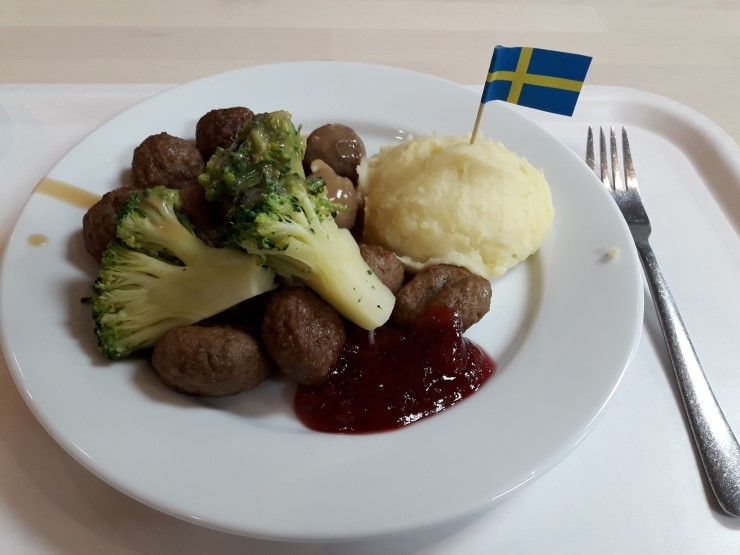meatballs: (256, 288, 351, 394)
